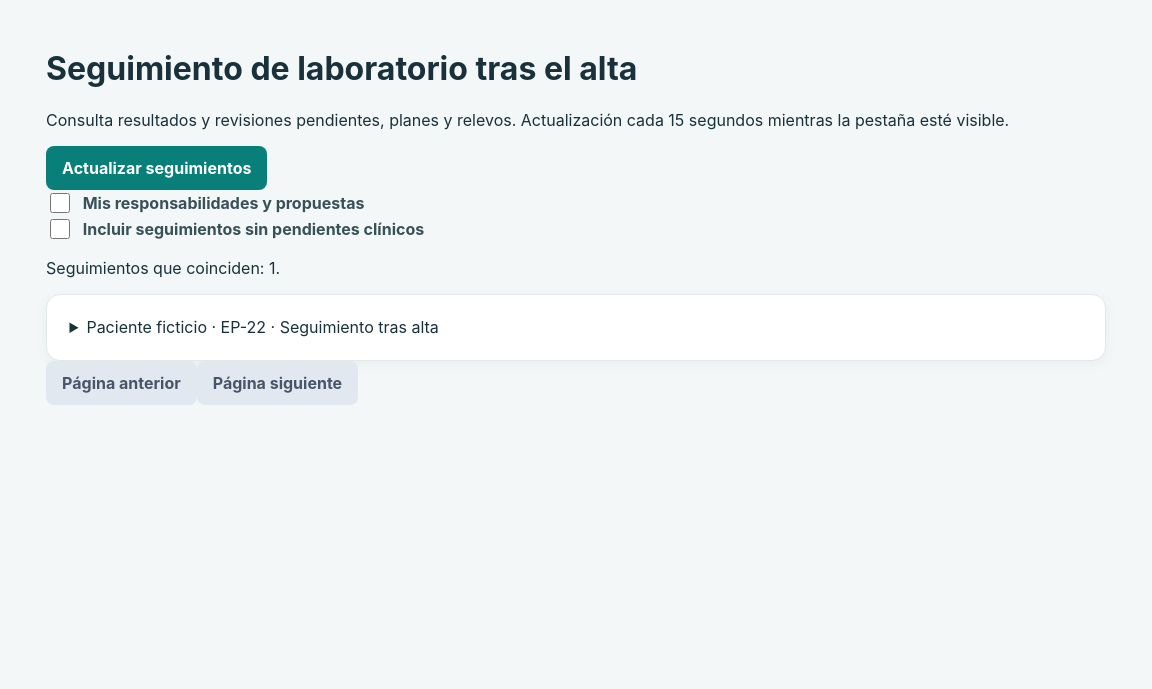
Test case: tras aceptar otro responsable retira los formularios y actualiza el aviso sin borrar su borrador
Click the heading "Paciente ficticio · EP-22 · Seguimiento tras alta".
click(263, 327)  # box 86,317 -> 439,337
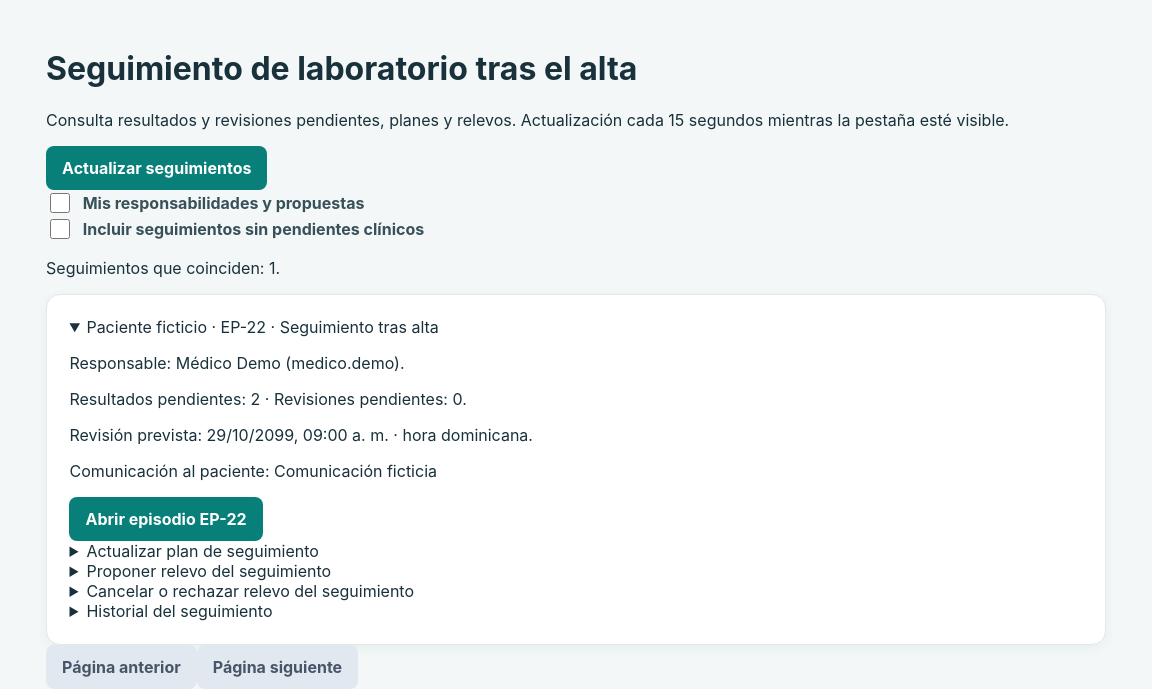
Click the heading "Proponer relevo del seguimiento".
click(209, 571)  # box 86,561 -> 331,581
(page scrolled)
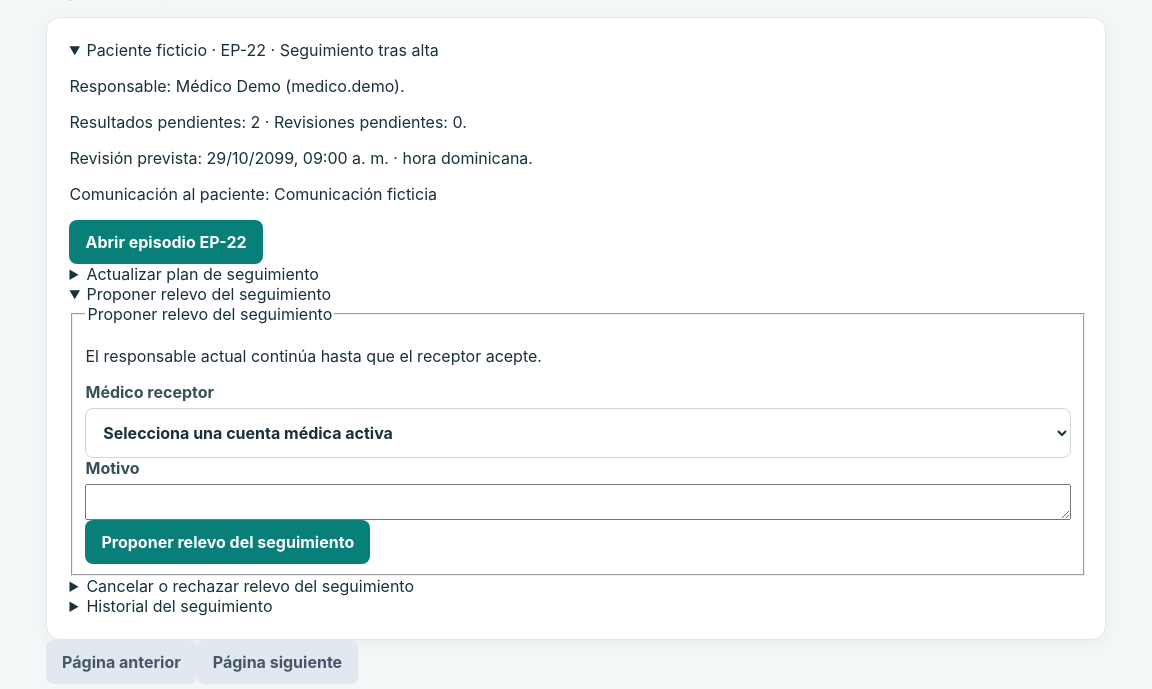
Type "Relevo ficticio de seguimiento" into the text box labelled "Motivo".
click(578, 502); type("Relevo ficticio de seguimiento")  # box 86,484 -> 1071,520
(page scrolled)
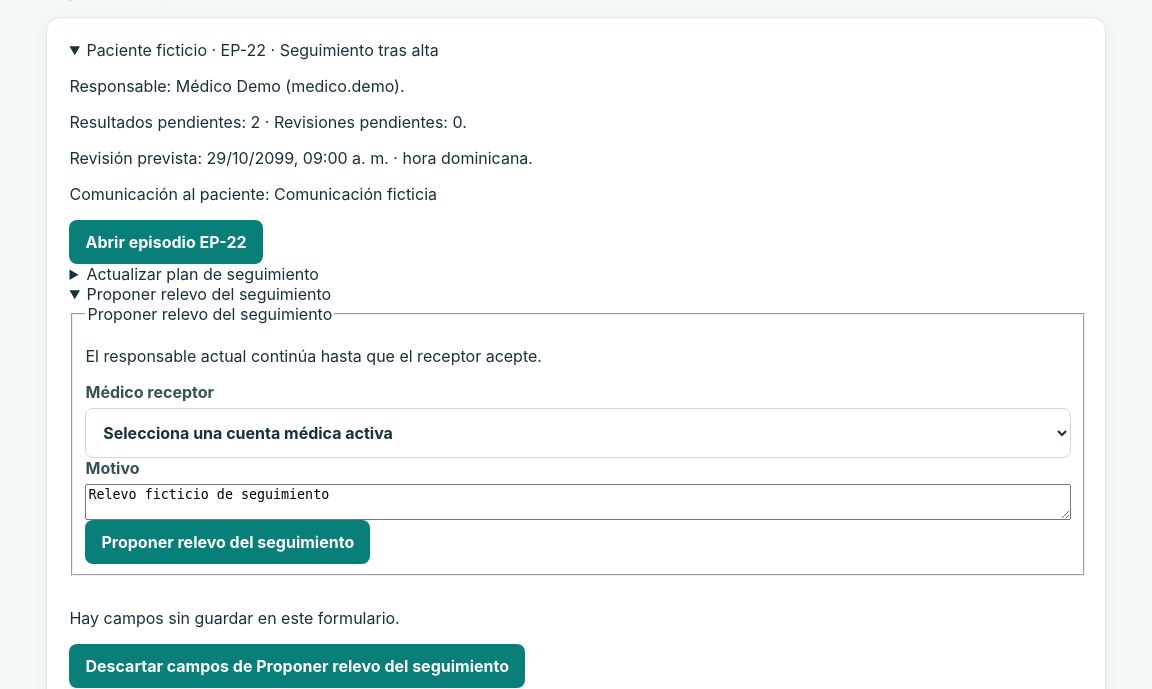
Select "Médico Relevo (medico.relevo)" in the dropdown labelled "Médico receptor" at [578, 433], box 86,408 -> 1071,458
(page scrolled)
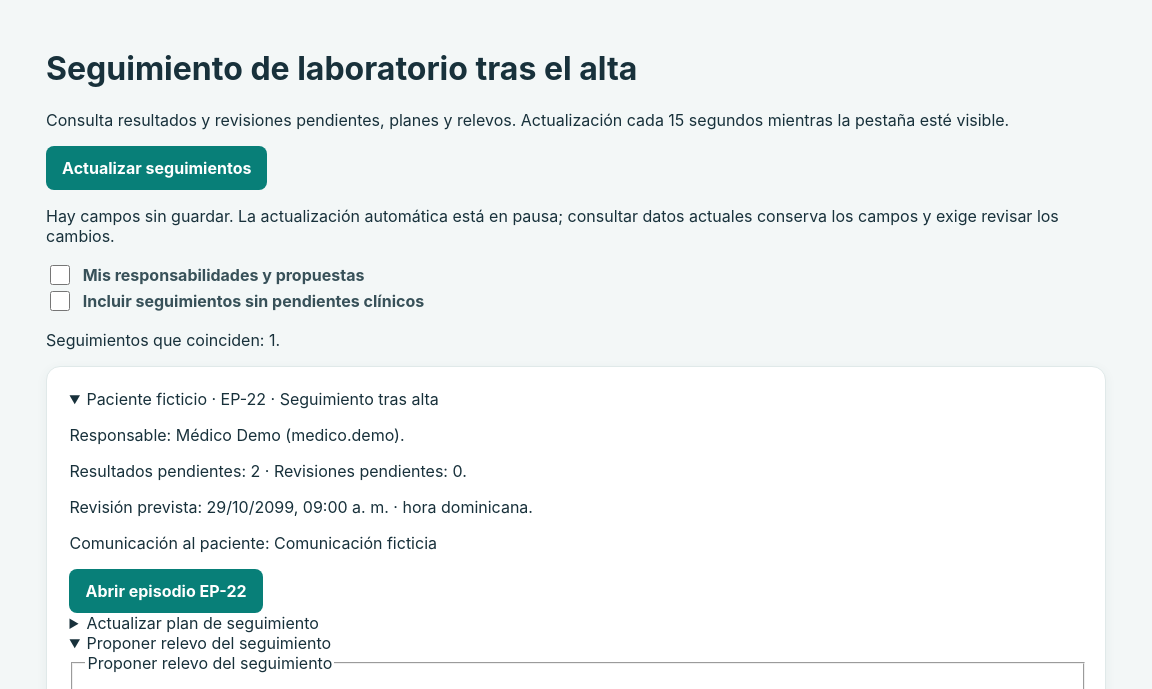
Now the text "Hay campos sin guardar. La actualización automática" is shown, box 46,206 -> 1059,246
Click the button "Actualizar seguimientos".
click(157, 168)  # box 46,146 -> 267,190
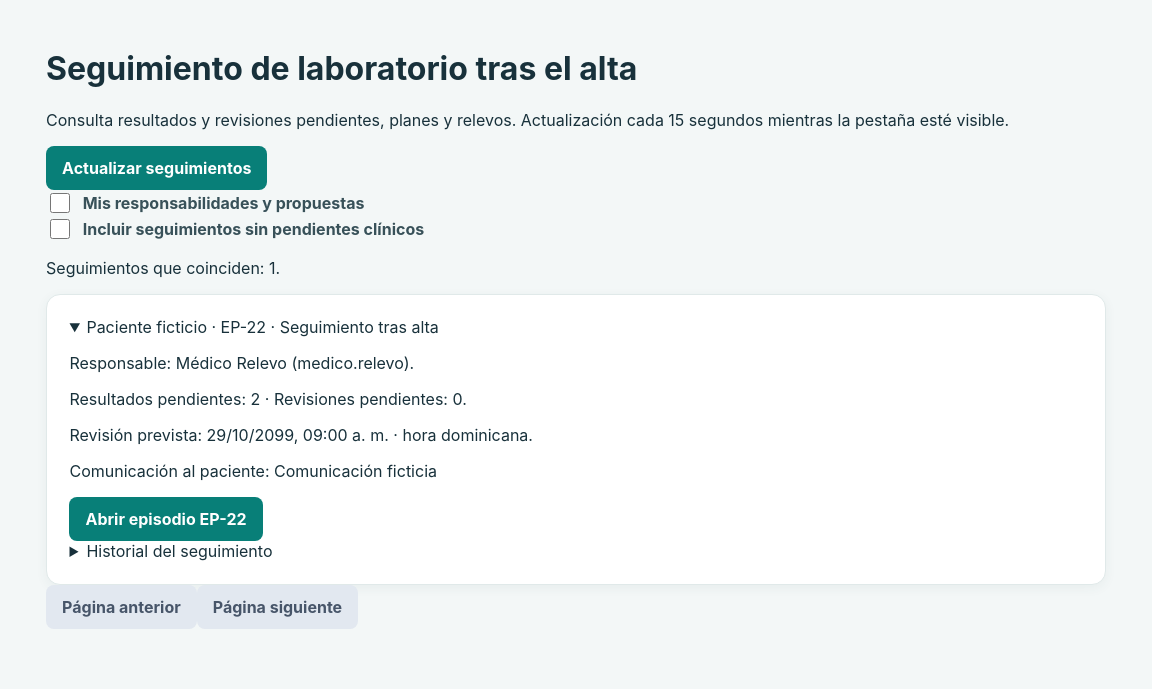
Now the text "Responsable: Médico Relevo (medico.relevo)." is shown, box 70,353 -> 414,373
Now the text "Hay campos sin guardar. La actualización automática" is gone
